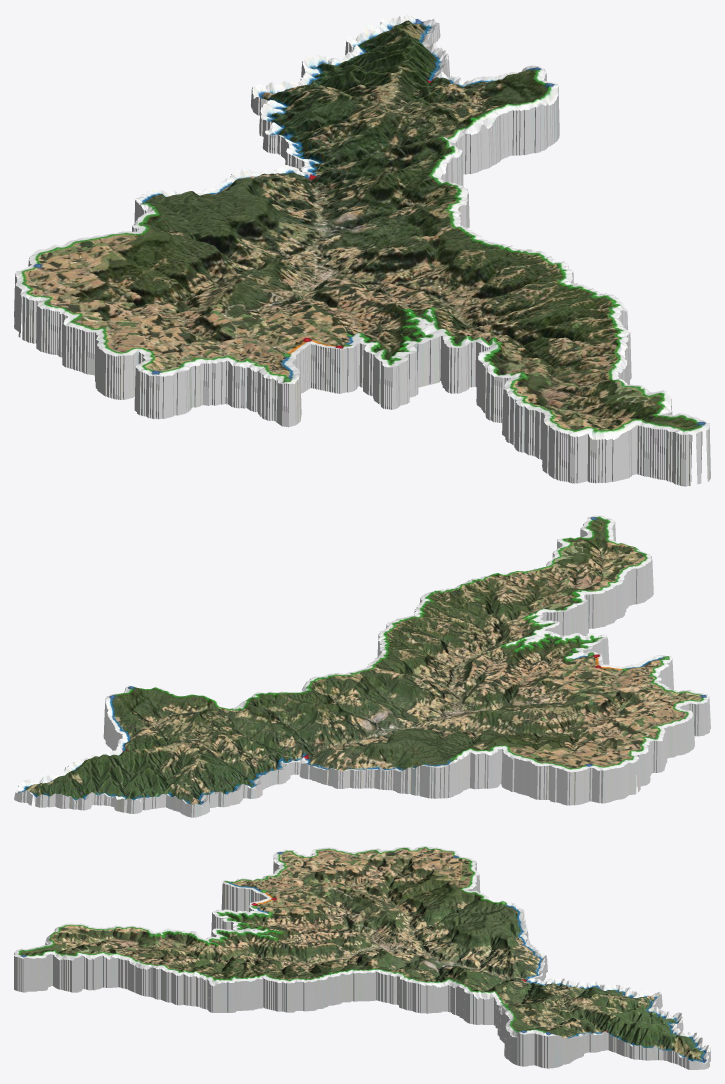
The picture shows the model from 3 angles, top to bottom: view 1: azimuth 30°, elevation 25°; view 2: azimuth 150°, elevation 25°; view 3: azimuth 270°, elevation 25°; orthographic projection. The views are drawn at different scales.
Bounding box in the file's own units: 1 × 0.0813 × 1.5.
Materials: 1 (1 with a texture image).
